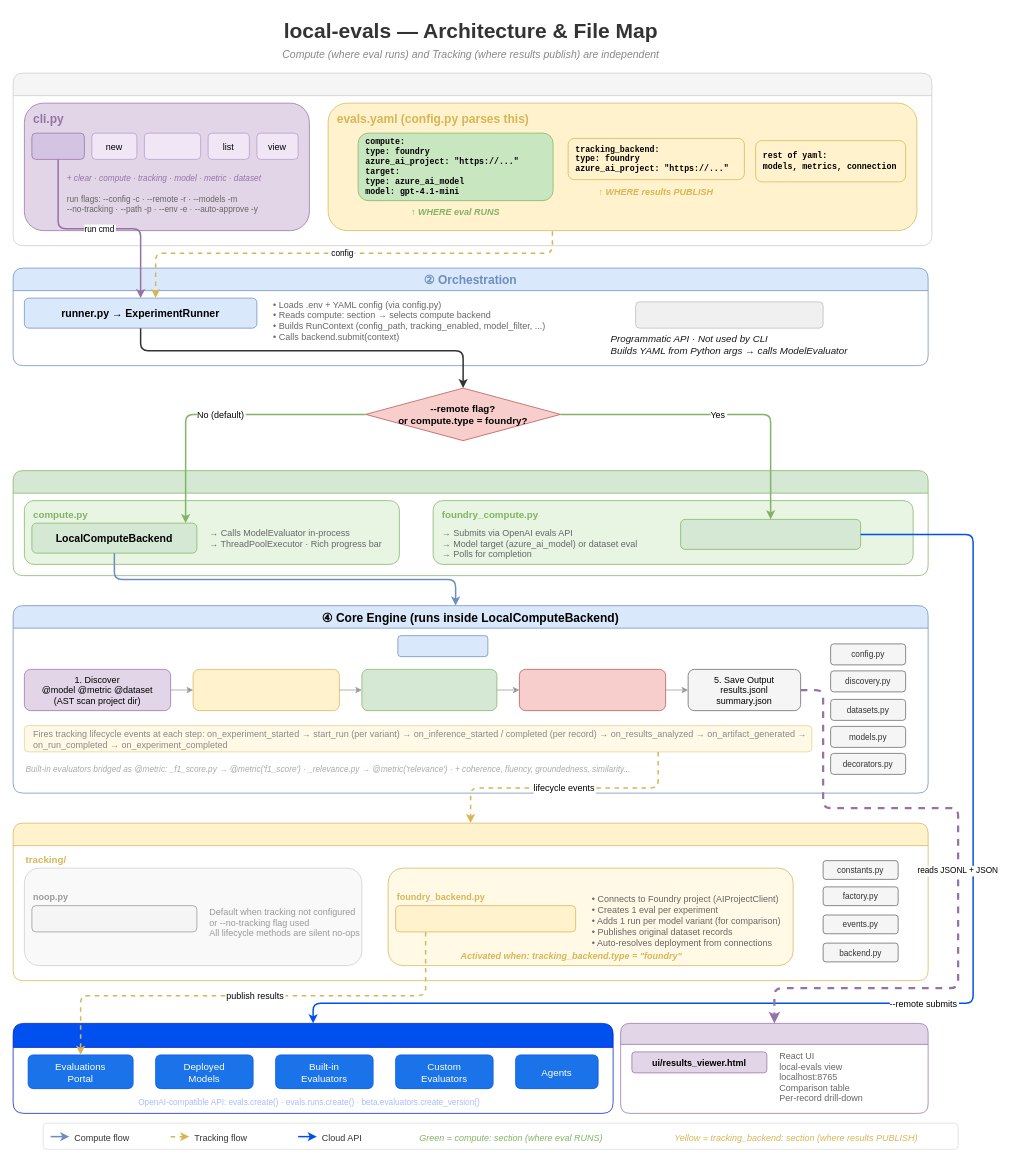
Some shapes in this 1013 by 1163 pixel diagram are drawn without their labels. Each missing label, with the box of its shape:
2. Cartesian Product Expand model args Simplify variant names: (192, 669, 339, 711)
3. model.infer() Per record, parallel ThreadPoolExecutor: (361, 669, 497, 711)
4. metric.compute() Per record + aggregate() Field mapping applied: (519, 669, 666, 711)
_eval_v2.py → evaluate_v2(): (635, 301, 823, 328)
evaluator.py: (397, 635, 488, 657)
FoundryComputeBackend: (680, 519, 861, 549)
FoundryTrackingBackend: (395, 905, 576, 932)
NoOpFallbackBackend: (31, 905, 197, 932)
run: (31, 132, 84, 159)
validate: (144, 132, 201, 159)
① User Input: (12, 72, 932, 246)
③ Compute Backend — WHERE evaluation RUNS: (12, 470, 928, 576)
⑤ Tracking Backend — WHERE results are PUBLISHED: (12, 822, 928, 981)
⑥ Azure AI Foundry (Cloud): (12, 1023, 613, 1113)
⑦ Results Viewer: (620, 1023, 928, 1113)
